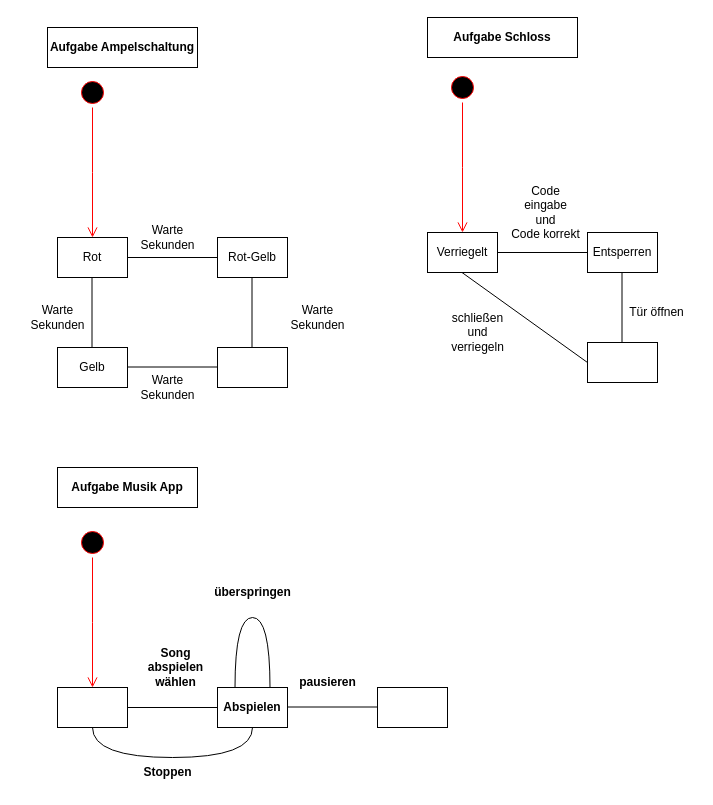
Image size: 713x805. Some labels were removed from this diagram. Each missing label, with the centre of its shape:
"Bereit" goes at (x=92, y=707).
"Grün" goes at (x=252, y=367).
"Offen" goes at (x=622, y=362).
"Stoppe Wiedergabe" goes at (x=412, y=707).
